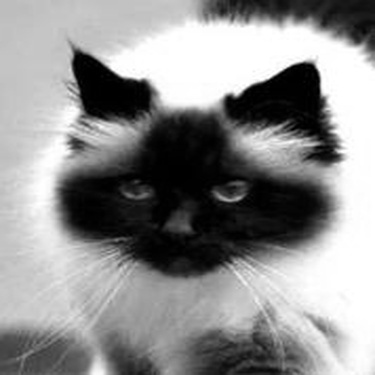cat: (40, 14, 368, 364)
